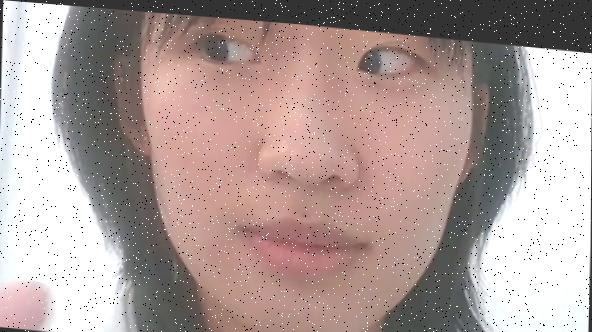eye: (352, 43, 380, 70), (200, 32, 228, 59)
iris: (189, 29, 256, 63), (358, 37, 417, 72)
